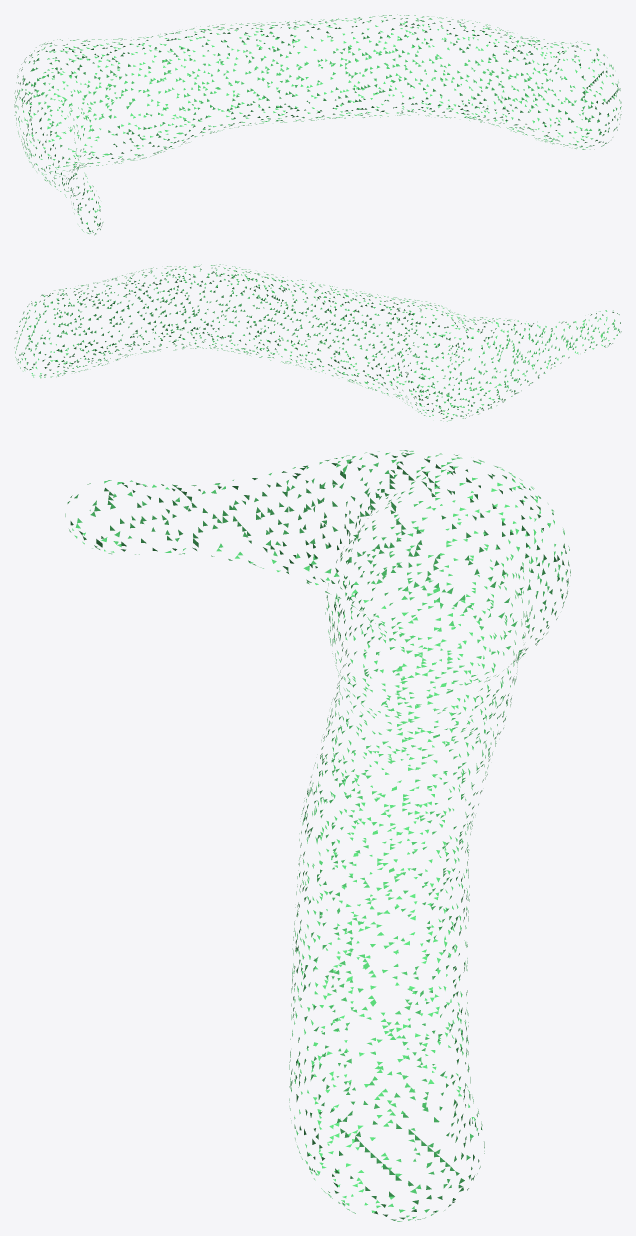
The model's file is morph_020.glb.
The picture shows the model from 3 angles, top to bottom: view 1: azimuth 30°, elevation 25°; view 2: azimuth 150°, elevation 25°; view 3: azimuth 270°, elevation 25°; orthographic projection. The views are drawn at different scales.
Bounding box in the file's own units: 140 × 44.14 × 59.37.
